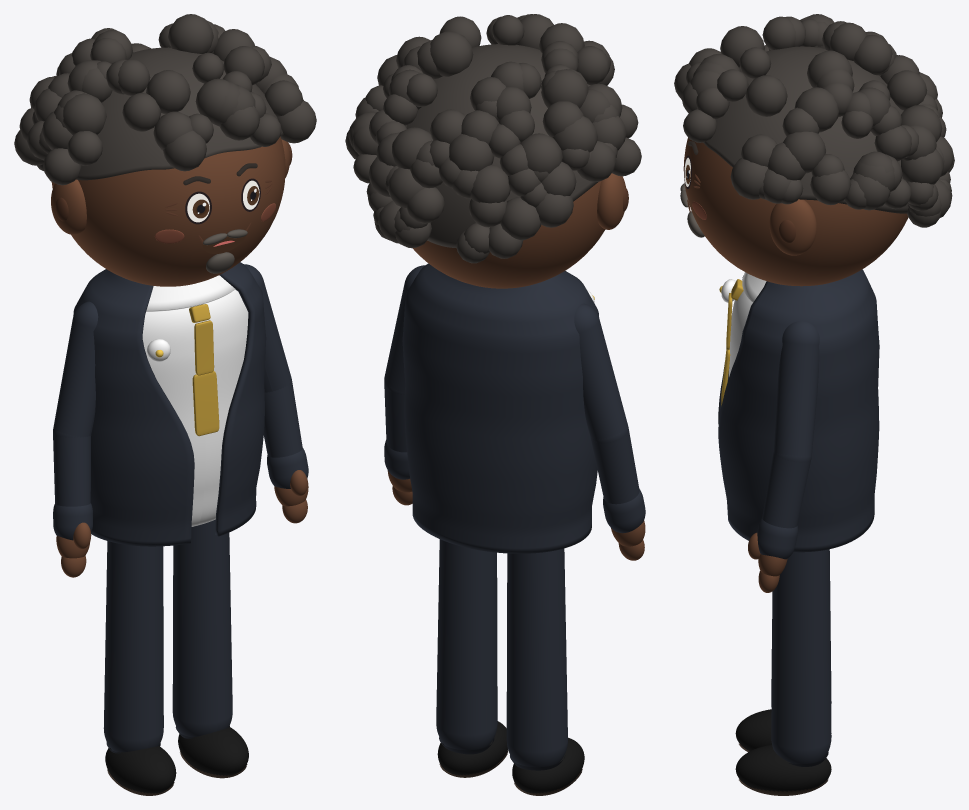
File: beste_vriend_40.glb
3 views of the same model, side by side, from view 1: azimuth 30°, elevation 25°; view 2: azimuth 150°, elevation 25°; view 3: azimuth 270°, elevation 25° (orthographic). The views are drawn at different scales.
Visible parts, largest first — view 1: beste_vriend_40_jas, beste_vriend_40_hoofd, beste_vriend_40_been_R, beste_vriend_40_been_L, beste_vriend_40_romp, beste_vriend_40_haar, beste_vriend_40_bovenarm_R, beste_vriend_40_onderarm_R, beste_vriend_40_schoen_R, beste_vriend_40_schoen_L, beste_vriend_40_onderarm_L, beste_vriend_40_kraag (+28 smaller); view 2: beste_vriend_40_jas, beste_vriend_40_been_R, beste_vriend_40_been_L, beste_vriend_40_hoofd, beste_vriend_40_haar, beste_vriend_40_bovenarm_R, beste_vriend_40_onderarm_R, beste_vriend_40_schoen_R, beste_vriend_40_schoen_L, beste_vriend_40_krul60, beste_vriend_40_bovenarm_L, beste_vriend_40_krul28 (+45 smaller); view 3: beste_vriend_40_jas, beste_vriend_40_hoofd, beste_vriend_40_been_L, beste_vriend_40_haar, beste_vriend_40_bovenarm_L, beste_vriend_40_schoen_L, beste_vriend_40_onderarm_L, beste_vriend_40_oor_L, beste_vriend_40_krul55, beste_vriend_40_krul0, beste_vriend_40_manchet_L, beste_vriend_40_krul26 (+32 smaller).
Part boxes in pixels (left/top/right/bottom): beste_vriend_40_jas: left=73, top=262, right=266, bottom=546; beste_vriend_40_hoofd: left=51, top=136, right=285, bottom=286; beste_vriend_40_been_R: left=103, top=541, right=163, bottom=752; beste_vriend_40_been_L: left=172, top=519, right=232, bottom=737; beste_vriend_40_romp: left=142, top=289, right=248, bottom=526; beste_vriend_40_haar: left=76, top=47, right=283, bottom=180; beste_vriend_40_bovenarm_R: left=53, top=301, right=98, bottom=437; beste_vriend_40_onderarm_R: left=53, top=432, right=91, bottom=506; beste_vriend_40_schoen_R: left=105, top=746, right=176, bottom=793; beste_vriend_40_schoen_L: left=178, top=726, right=248, bottom=775; beste_vriend_40_onderarm_L: left=263, top=380, right=302, bottom=457; beste_vriend_40_kraag: left=146, top=275, right=234, bottom=311; beste_vriend_40_jas: left=402, top=263, right=599, bottom=553; beste_vriend_40_been_R: left=506, top=548, right=567, bottom=767; beste_vriend_40_been_L: left=436, top=539, right=497, bottom=750; beste_vriend_40_hoofd: left=413, top=181, right=605, bottom=288; beste_vriend_40_haar: left=406, top=44, right=597, bottom=248; beste_vriend_40_bovenarm_R: left=574, top=303, right=627, bottom=443; beste_vriend_40_onderarm_R: left=590, top=429, right=639, bottom=504; beste_vriend_40_schoen_R: left=512, top=737, right=584, bottom=793; beste_vriend_40_schoen_L: left=437, top=721, right=507, bottom=775; beste_vriend_40_krul60: left=430, top=31, right=473, bottom=76; beste_vriend_40_bovenarm_L: left=384, top=265, right=424, bottom=393; beste_vriend_40_krul28: left=541, top=69, right=588, bottom=108; beste_vriend_40_jas: left=718, top=269, right=879, bottom=552; beste_vriend_40_hoofd: left=683, top=137, right=908, bottom=286; beste_vriend_40_been_L: left=771, top=549, right=831, bottom=764; beste_vriend_40_haar: left=703, top=46, right=908, bottom=213; beste_vriend_40_bovenarm_L: left=773, top=321, right=819, bottom=462; beste_vriend_40_schoen_L: left=735, top=745, right=831, bottom=791; beste_vriend_40_onderarm_L: left=762, top=452, right=810, bottom=528; beste_vriend_40_oor_L: left=769, top=199, right=816, bottom=255; beste_vriend_40_krul55: left=745, top=75, right=787, bottom=116; beste_vriend_40_krul0: left=794, top=87, right=838, bottom=132; beste_vriend_40_manchet_L: left=757, top=517, right=797, bottom=559; beste_vriend_40_krul26: left=887, top=70, right=927, bottom=110.
Size of the model in its own units: 0.6922 by 1.92 by 0.6587.
